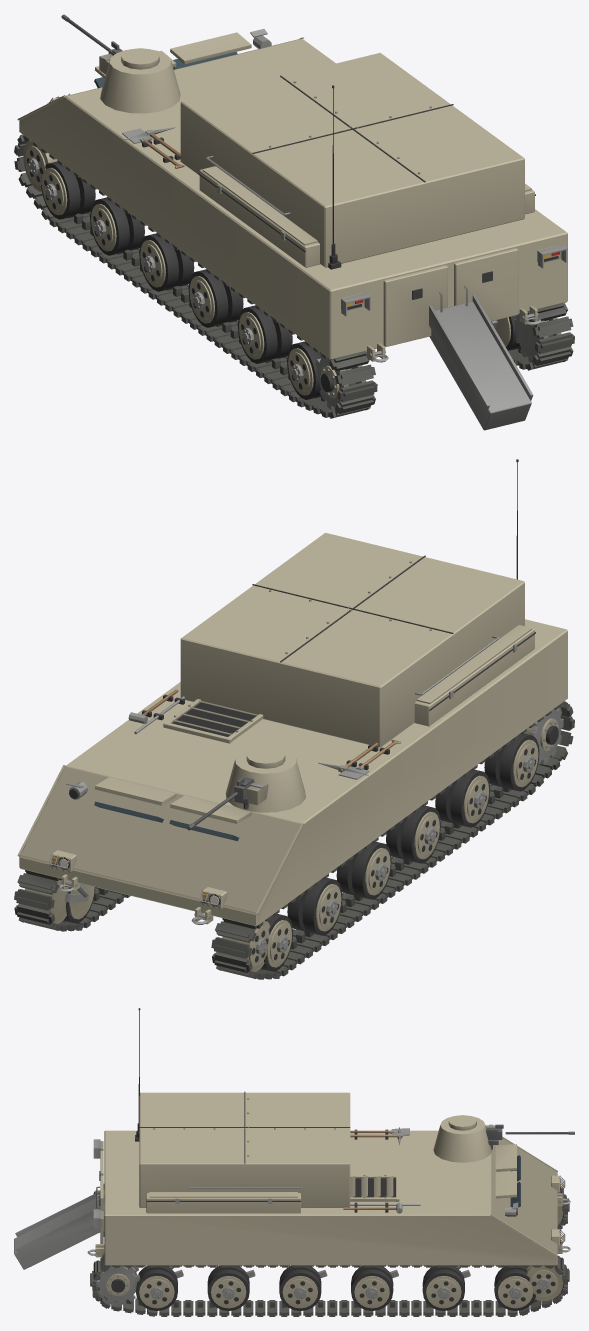
File: rus_eng_gmz.glb
3 views of the same model, one above another, from view 1: azimuth 30°, elevation 25°; view 2: azimuth 150°, elevation 25°; view 3: azimuth 270°, elevation 25° (orthographic). The views are drawn at different scales.
Visible parts, largest first — view 1: body, turret, barrel; view 2: body, turret, barrel; view 3: body, turret, barrel.
Boxes of the visible parts, x1,y1,x2,y2 form: body: (14, 29, 574, 430); turret: (100, 48, 180, 113); barrel: (61, 14, 122, 74); body: (14, 459, 574, 979); turret: (225, 747, 305, 812); barrel: (187, 777, 268, 830); body: (14, 1008, 570, 1316); turret: (433, 1115, 492, 1162); barrel: (485, 1124, 574, 1149).
Bounding box in the file's own units: 2.89 × 3.67 × 7.98.
